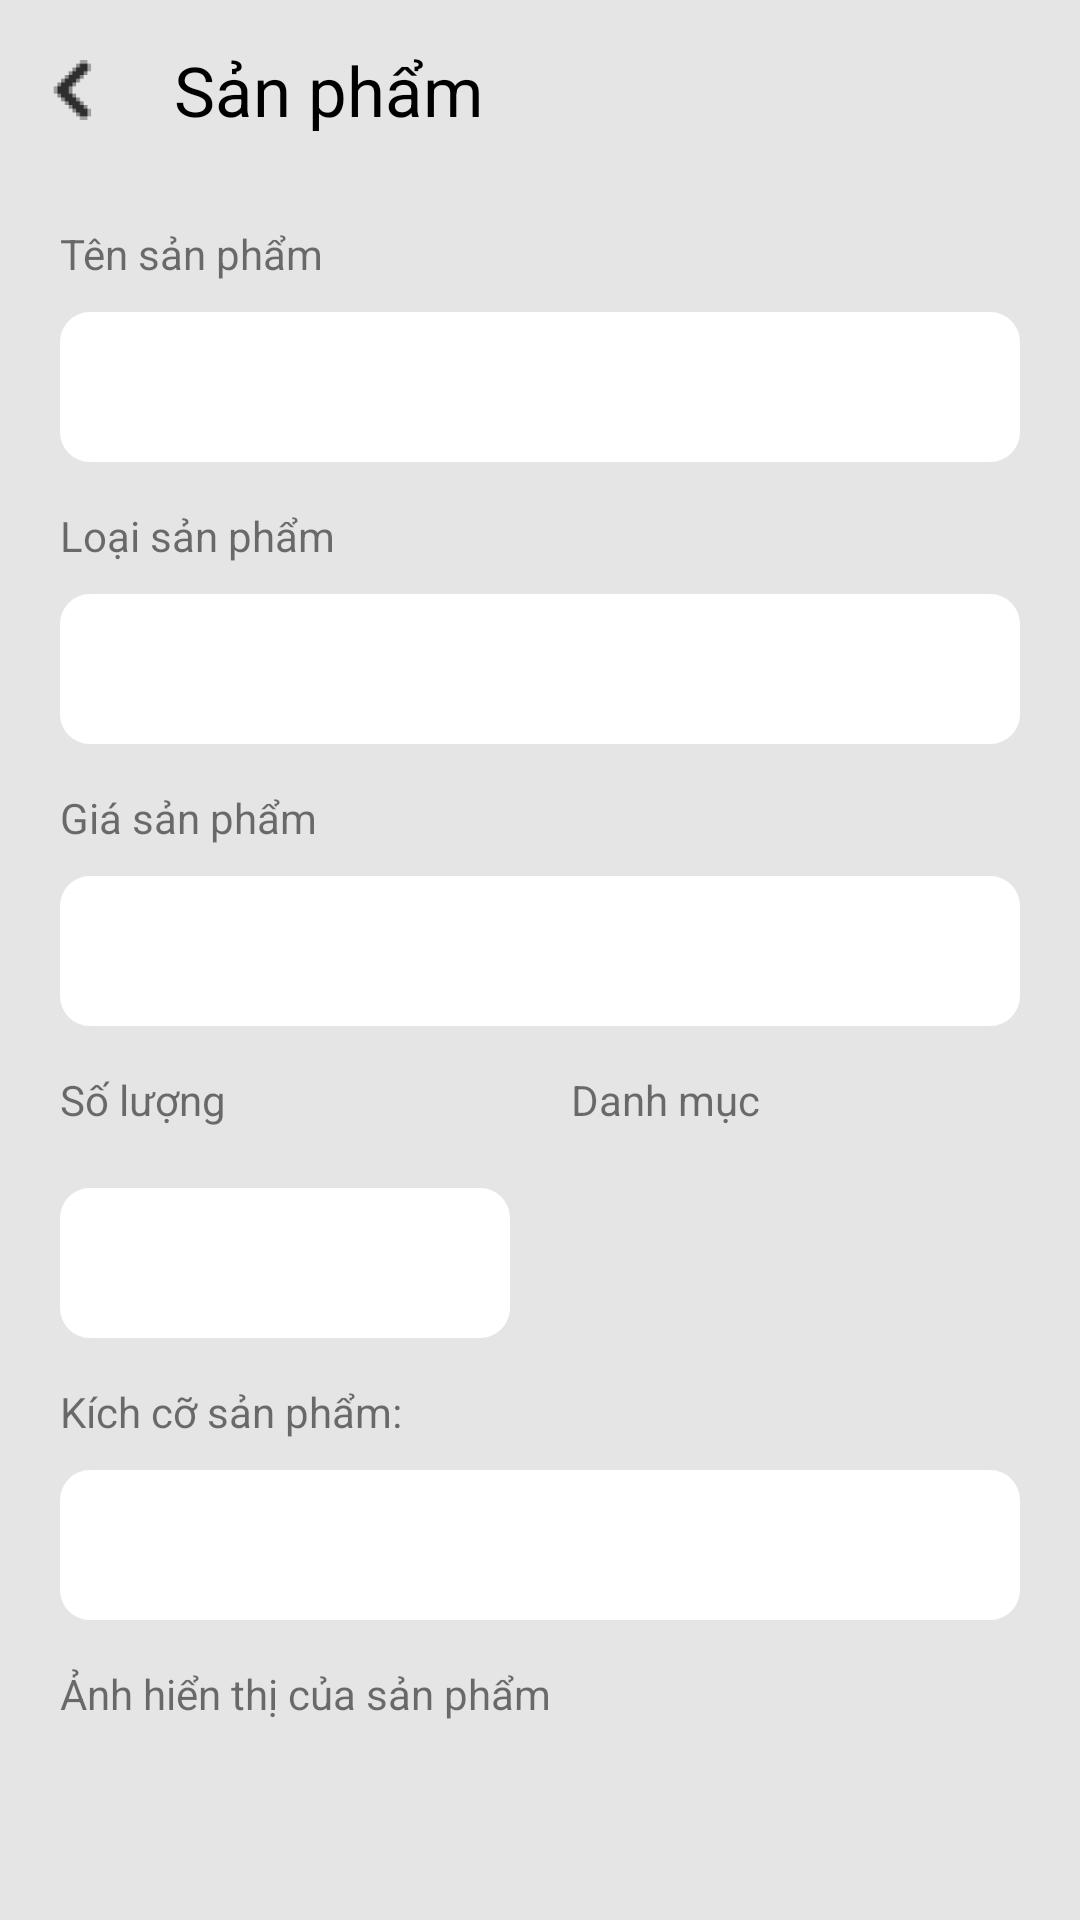

Point at icon controls on the screen. Image size 1080x1920, points as (x=x, y=y).
back: (x=72, y=90)
